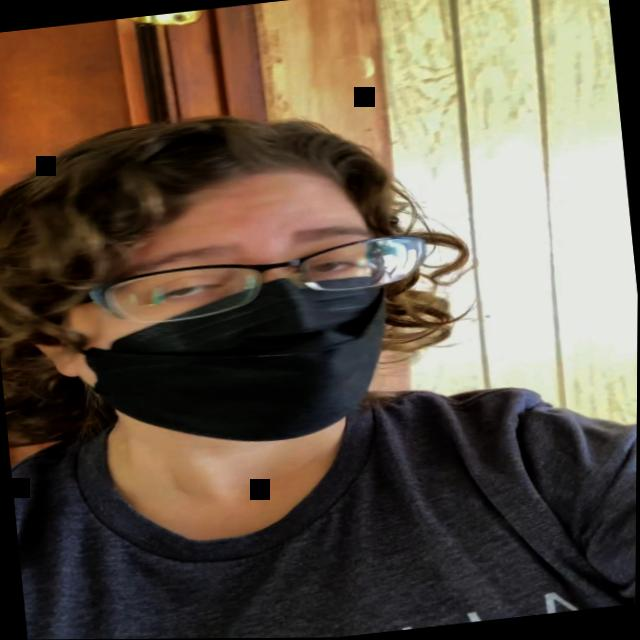Mask: (36, 163, 402, 466)
